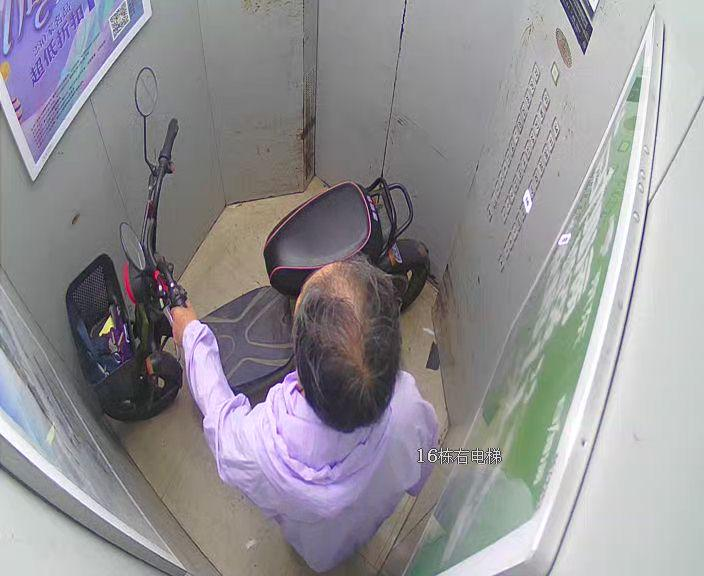Electric-bicycle: (70, 67, 432, 402)
